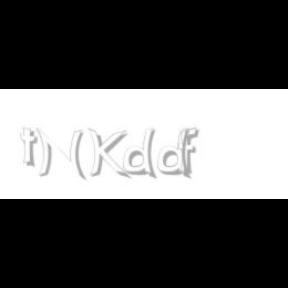K: (87, 128, 127, 180)
N: (36, 128, 84, 180)
d: (124, 128, 161, 180), (158, 128, 195, 180)
f: (179, 128, 203, 174)
t: (20, 128, 42, 168)
